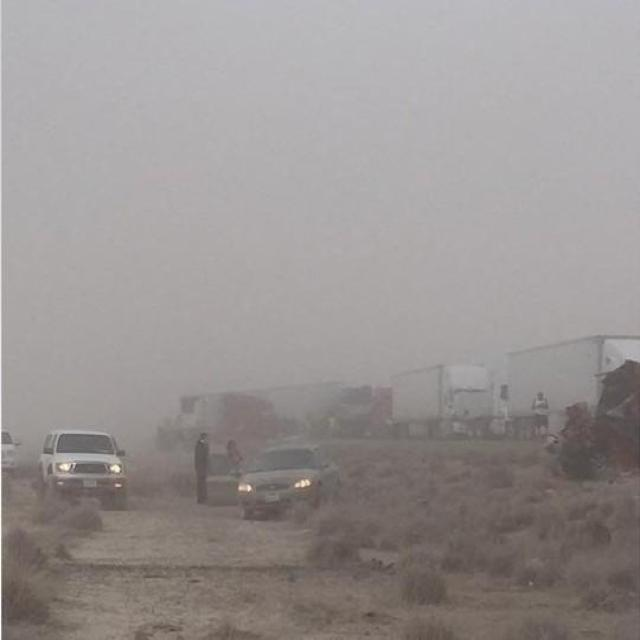Car: (32, 424, 136, 512), (226, 444, 338, 522)
Truck: (499, 328, 640, 454), (390, 362, 498, 450)
